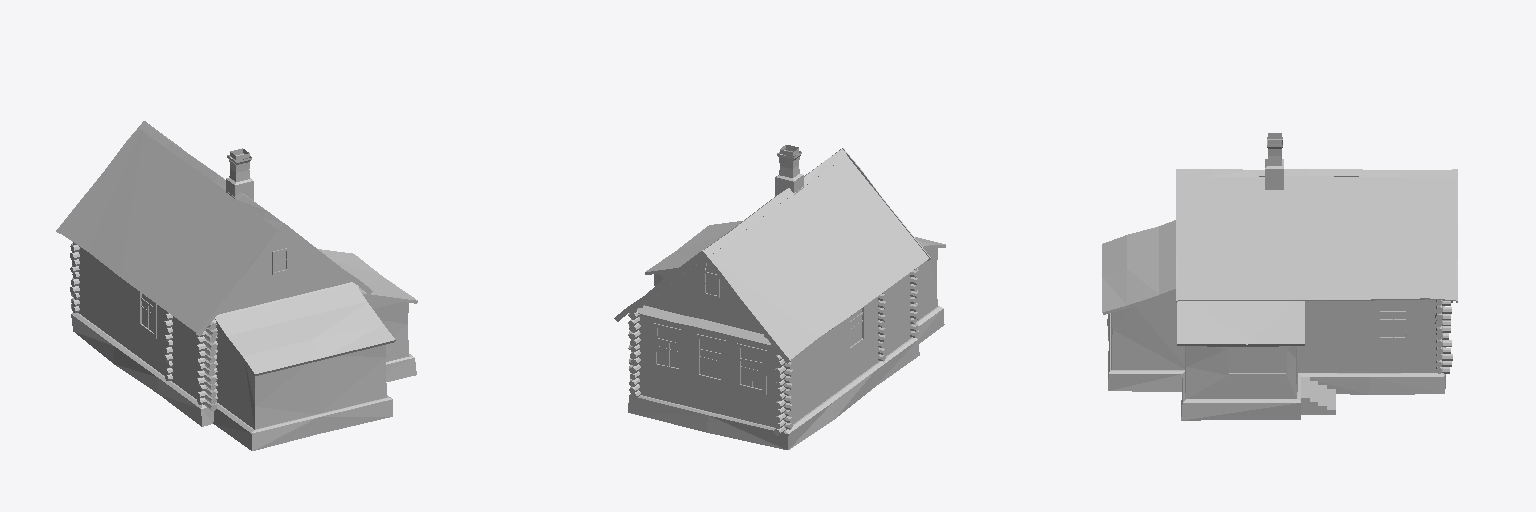
File: wooden house.obj
The picture shows the model from 3 angles: view 1: azimuth 30°, elevation 25°; view 2: azimuth 150°, elevation 25°; view 3: azimuth 270°, elevation 25°; orthographic projection.
Visible parts, largest first — view 1: Mesh_0076, Mesh_0073, Mesh_0080, Mesh_0078, Mesh_0074; view 2: Mesh_0076, Mesh_0073, Mesh_0080, Mesh_0078, Mesh_0081, Mesh_0074; view 3: Mesh_0076, Mesh_0073, Mesh_0080, Mesh_0078, Mesh_0081.
Boxes of the visible parts, <box> form: Mesh_0076: <box>58,129,417,373</box>; Mesh_0073: <box>70,230,409,429</box>; Mesh_0080: <box>71,148,416,450</box>; Mesh_0078: <box>56,121,417,376</box>; Mesh_0074: <box>70,242,217,410</box>; Mesh_0076: <box>646,156,945,359</box>; Mesh_0073: <box>628,248,937,434</box>; Mesh_0080: <box>628,145,944,449</box>; Mesh_0078: <box>614,148,945,394</box>; Mesh_0081: <box>657,274,861,389</box>; Mesh_0074: <box>628,268,919,435</box>; Mesh_0076: <box>1102,176,1455,344</box>; Mesh_0073: <box>1111,292,1452,398</box>; Mesh_0080: <box>1107,133,1445,420</box>; Mesh_0078: <box>1103,169,1457,391</box>; Mesh_0081: <box>1229,301,1405,372</box>.
Size of the model in its own units: 807 by 762 by 1112.